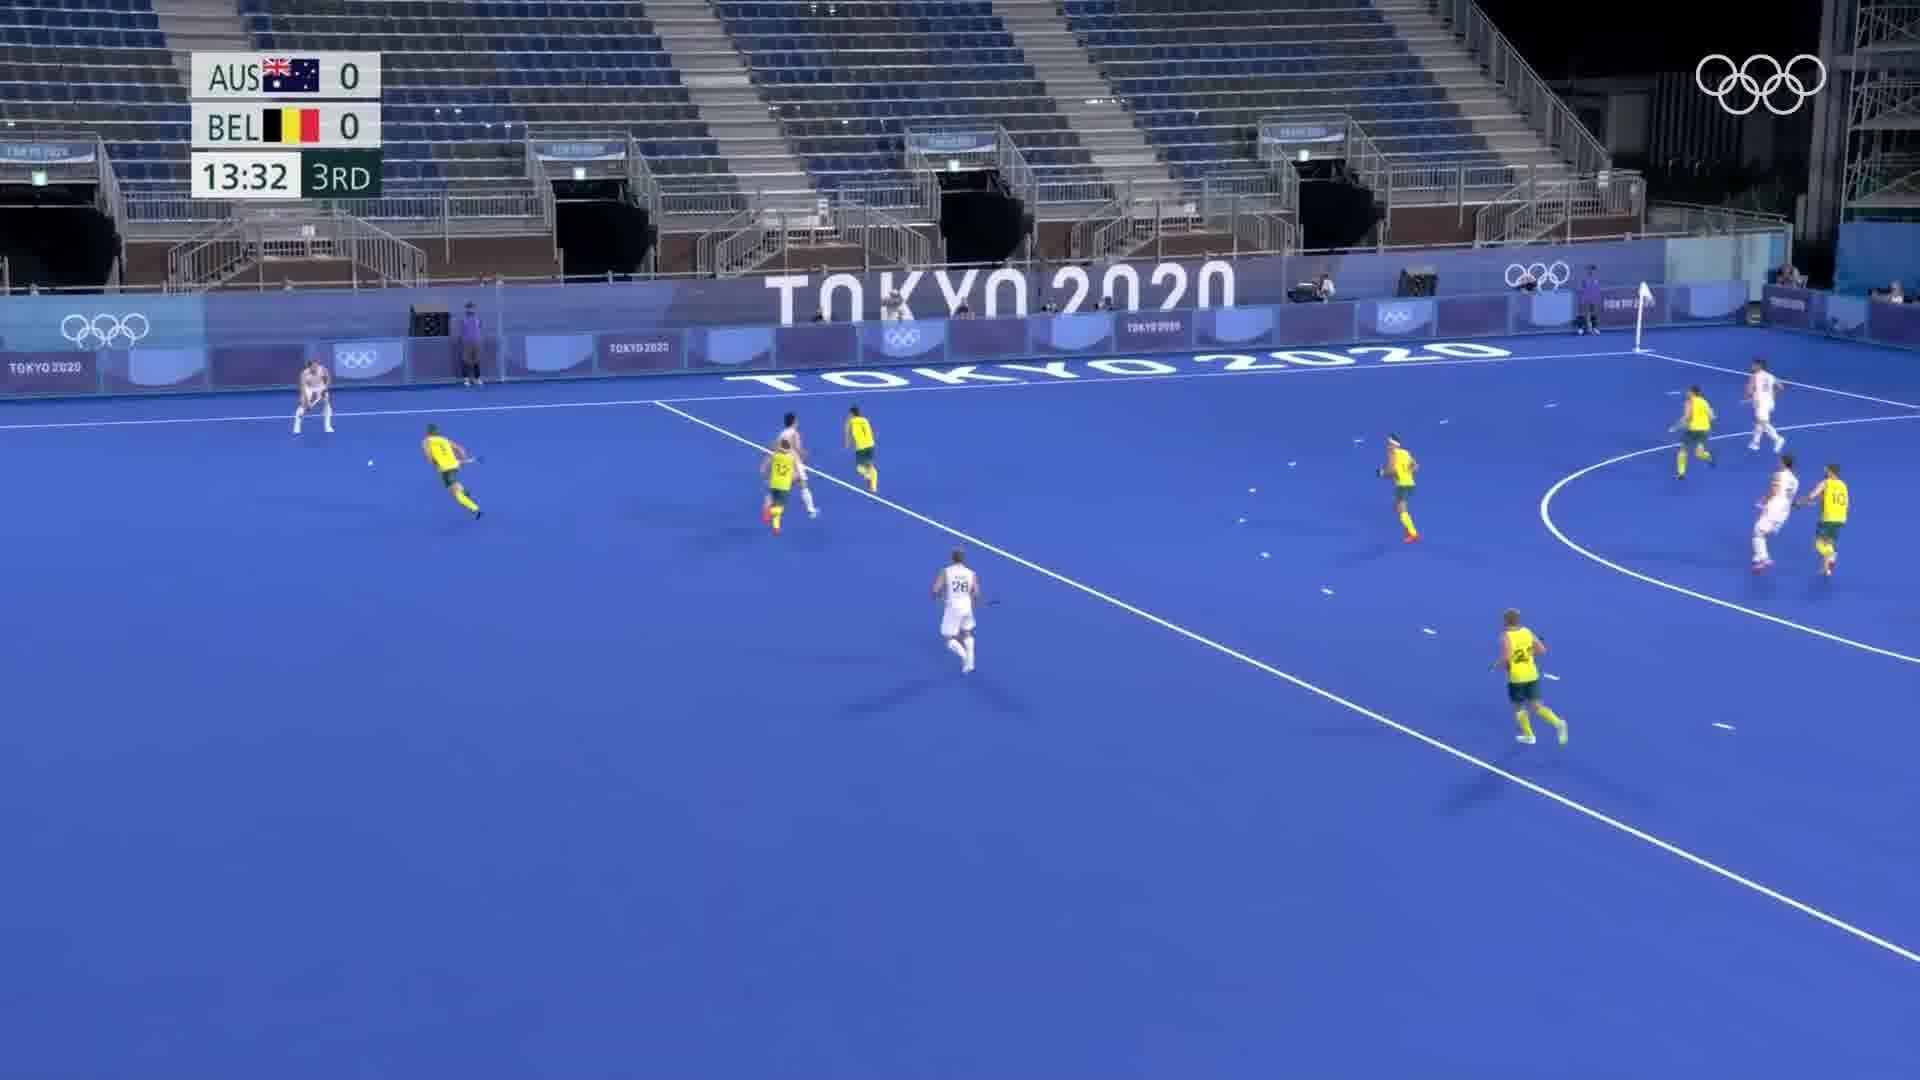ball: (364, 456, 378, 469)
